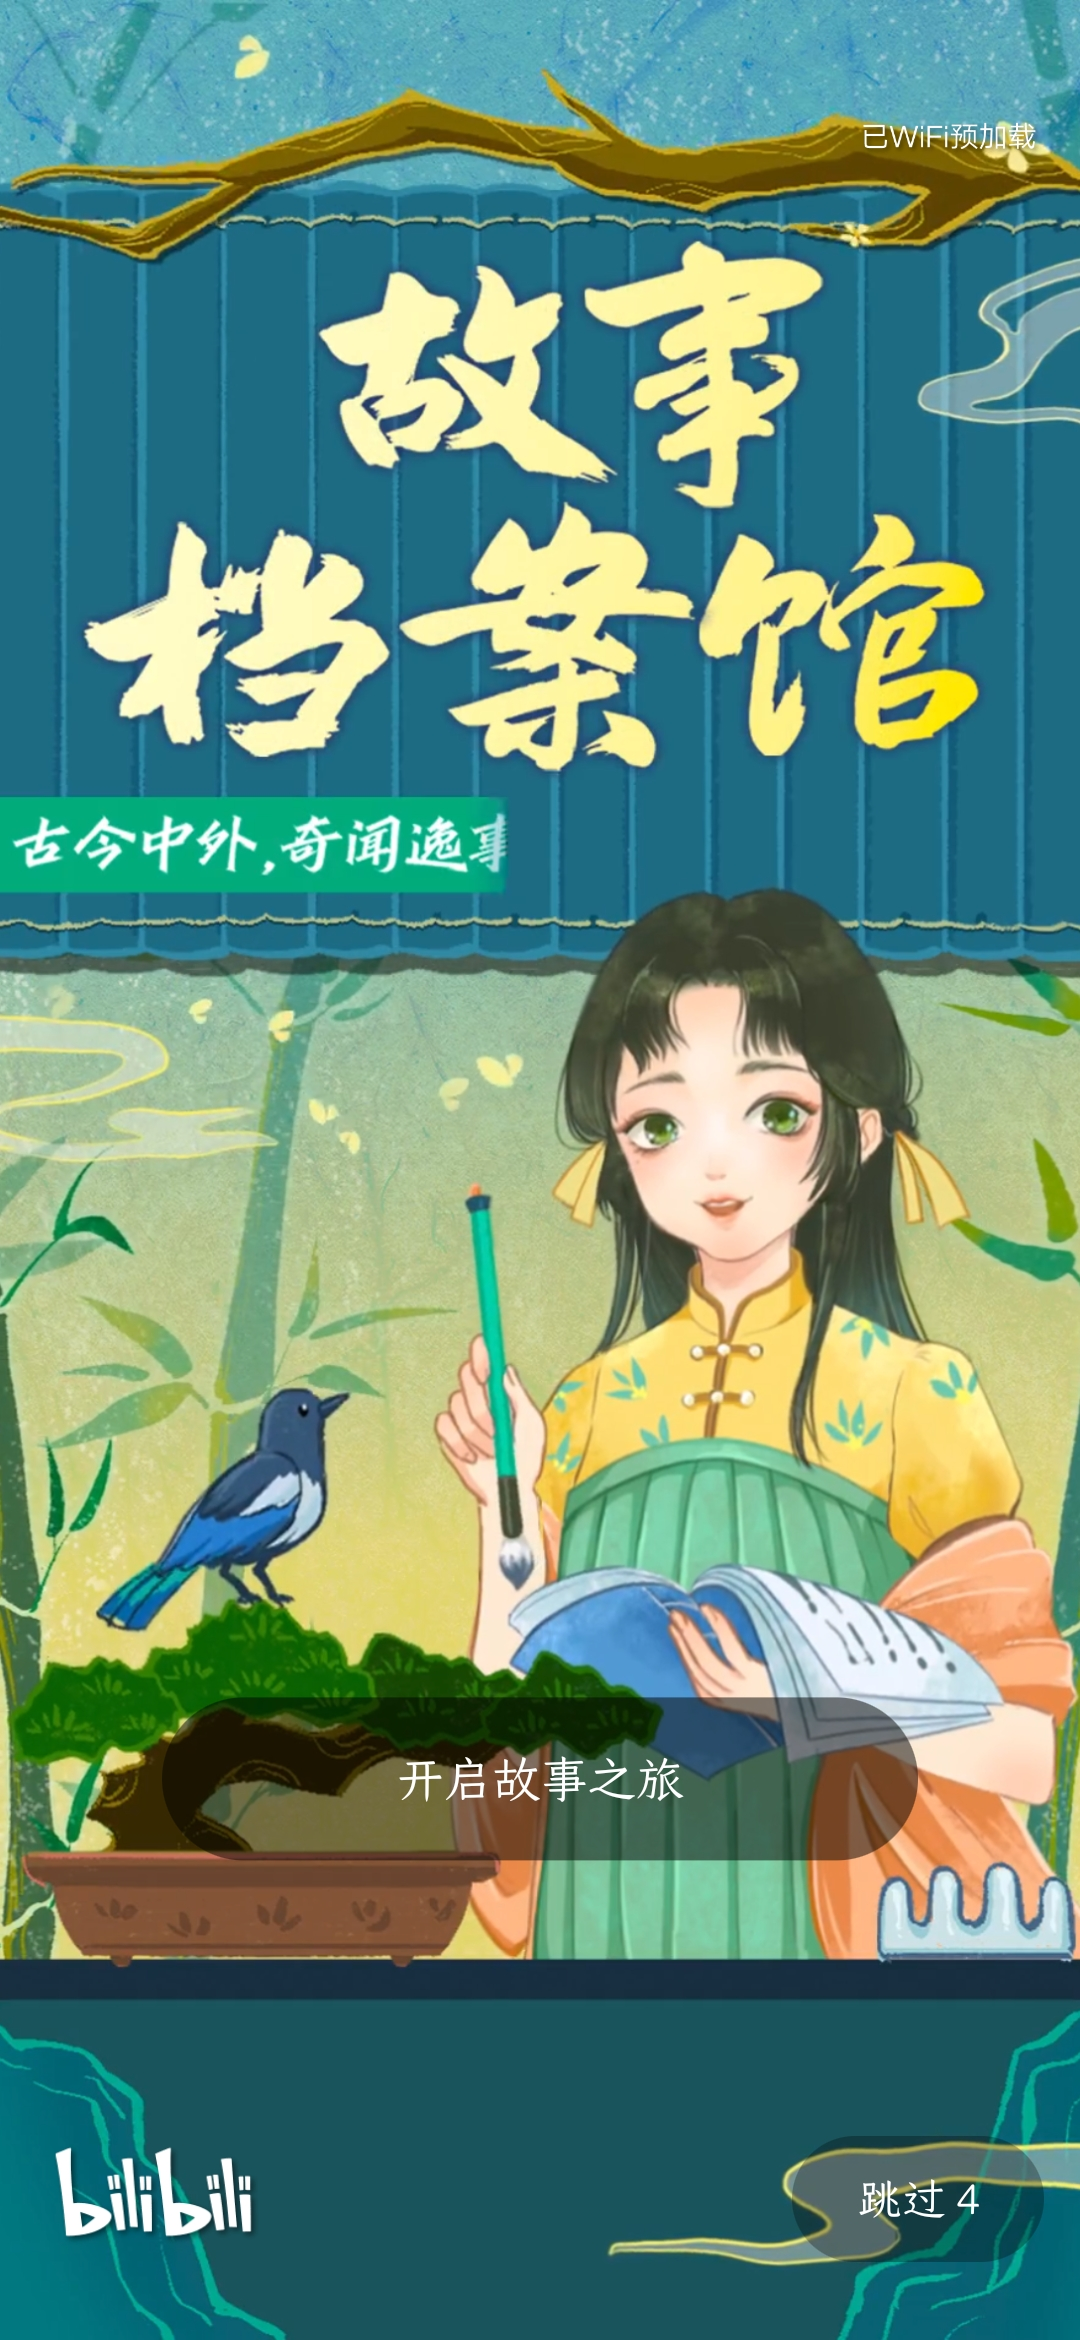skip: (828, 2153, 1005, 2250)
